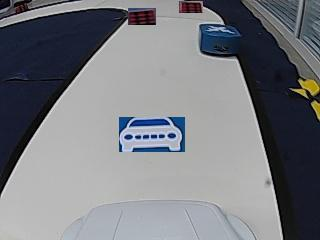prop: (200, 24, 240, 57)
